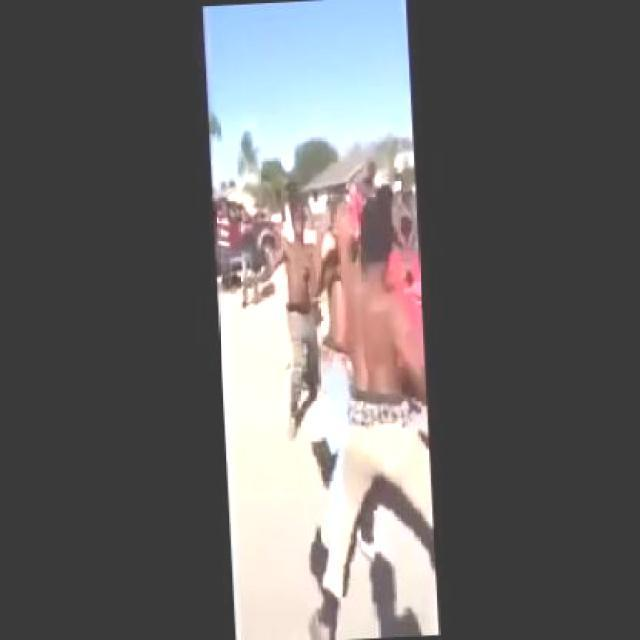fight: (304, 189, 430, 509)
